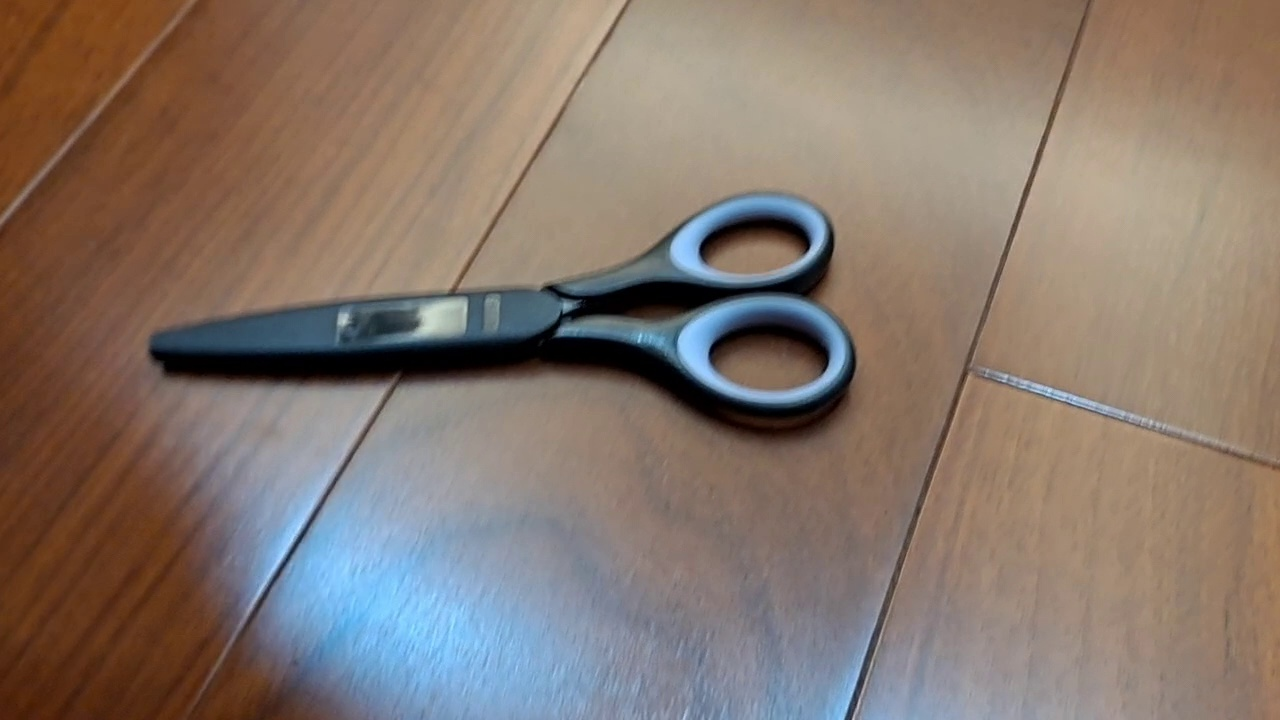scissors: (145, 188, 857, 423)
